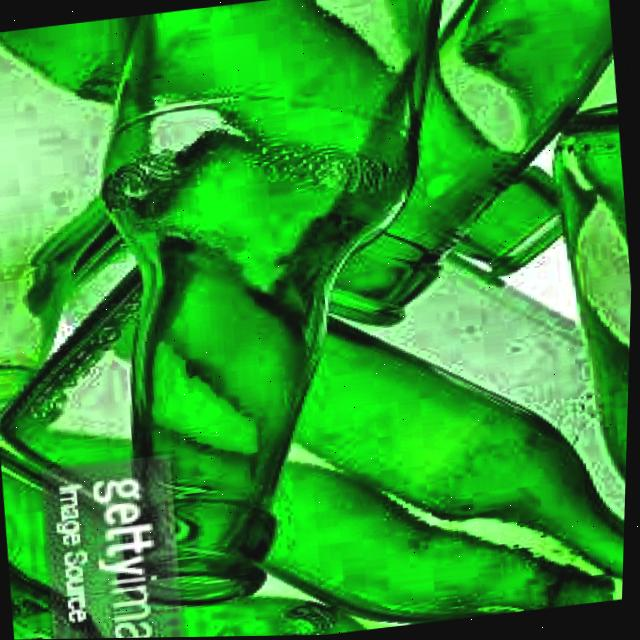glass: (101, 0, 438, 616)
